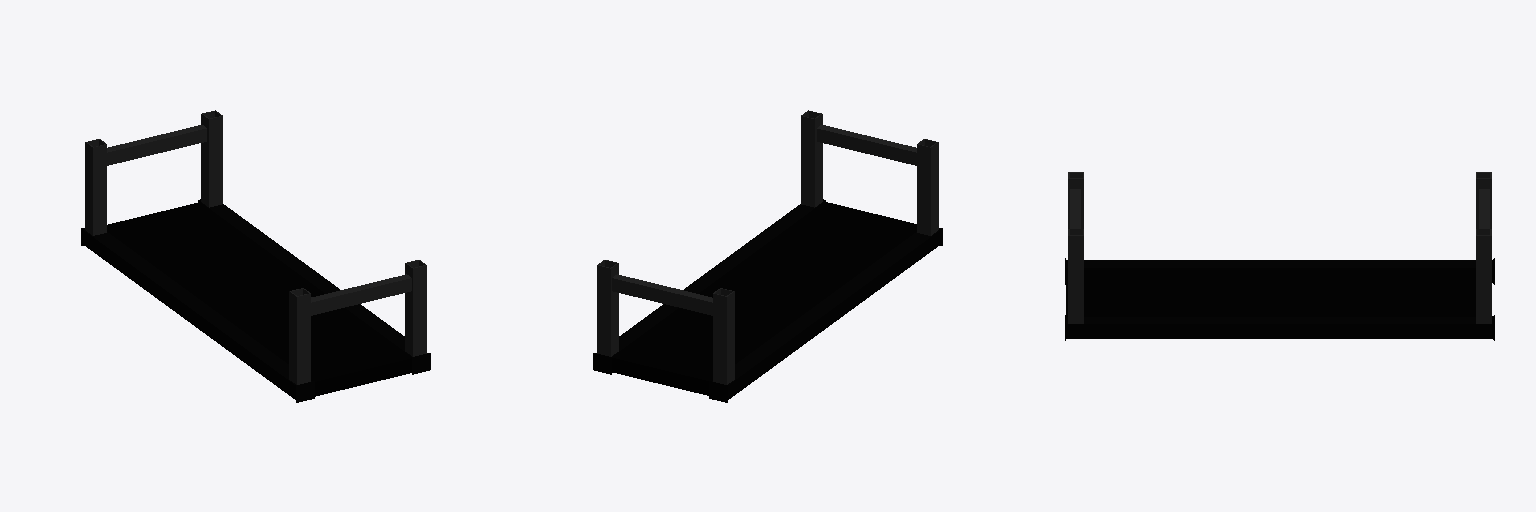
The model's file is wheel_holder.obj.
3 views of the same model, side by side, from view 1: azimuth 30°, elevation 25°; view 2: azimuth 150°, elevation 25°; view 3: azimuth 270°, elevation 25° (orthographic).
Visible parts, largest first — view 1: Cube, Cube.001, Cube.002; view 2: Cube, Cube.001, Cube.002; view 3: Cube, Cube.001, Cube.002.
Part boxes in pixels (left/top/right/bottom): Cube: left=81, top=199, right=430, bottom=402; Cube.001: left=85, top=110, right=426, bottom=384; Cube.002: left=107, top=125, right=411, bottom=315; Cube: left=593, top=199, right=942, bottom=402; Cube.001: left=597, top=110, right=938, bottom=384; Cube.002: left=612, top=125, right=916, bottom=315; Cube: left=1065, top=258, right=1494, bottom=340; Cube.001: left=1068, top=172, right=1491, bottom=323; Cube.002: left=1070, top=189, right=1489, bottom=228.
Size of the model in its own units: 1.04 by 0.773 by 2.87.